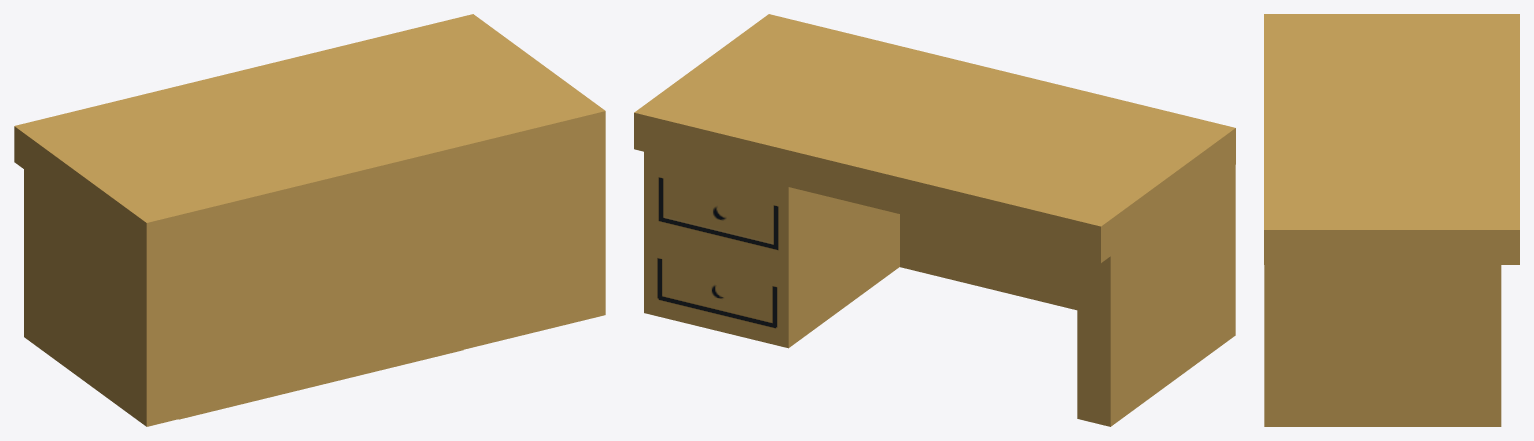
The model's file is Bureau.FBX.
3 renders of one model, left to right at view 1: azimuth 30°, elevation 25°; view 2: azimuth 150°, elevation 25°; view 3: azimuth 270°, elevation 25°, orthographic. The views are drawn at different scales.
Visible parts, largest first — view 1: Bureau; view 2: Bureau; view 3: Bureau.
Boxes of the visible parts, x1=… form: Bureau: x1=14, y1=14, x2=605, y2=426; Bureau: x1=634, y1=14, x2=1235, y2=426; Bureau: x1=1264, y1=14, x2=1519, y2=426.
Size of the model in its own units: 2 by 0.8512 by 1.
